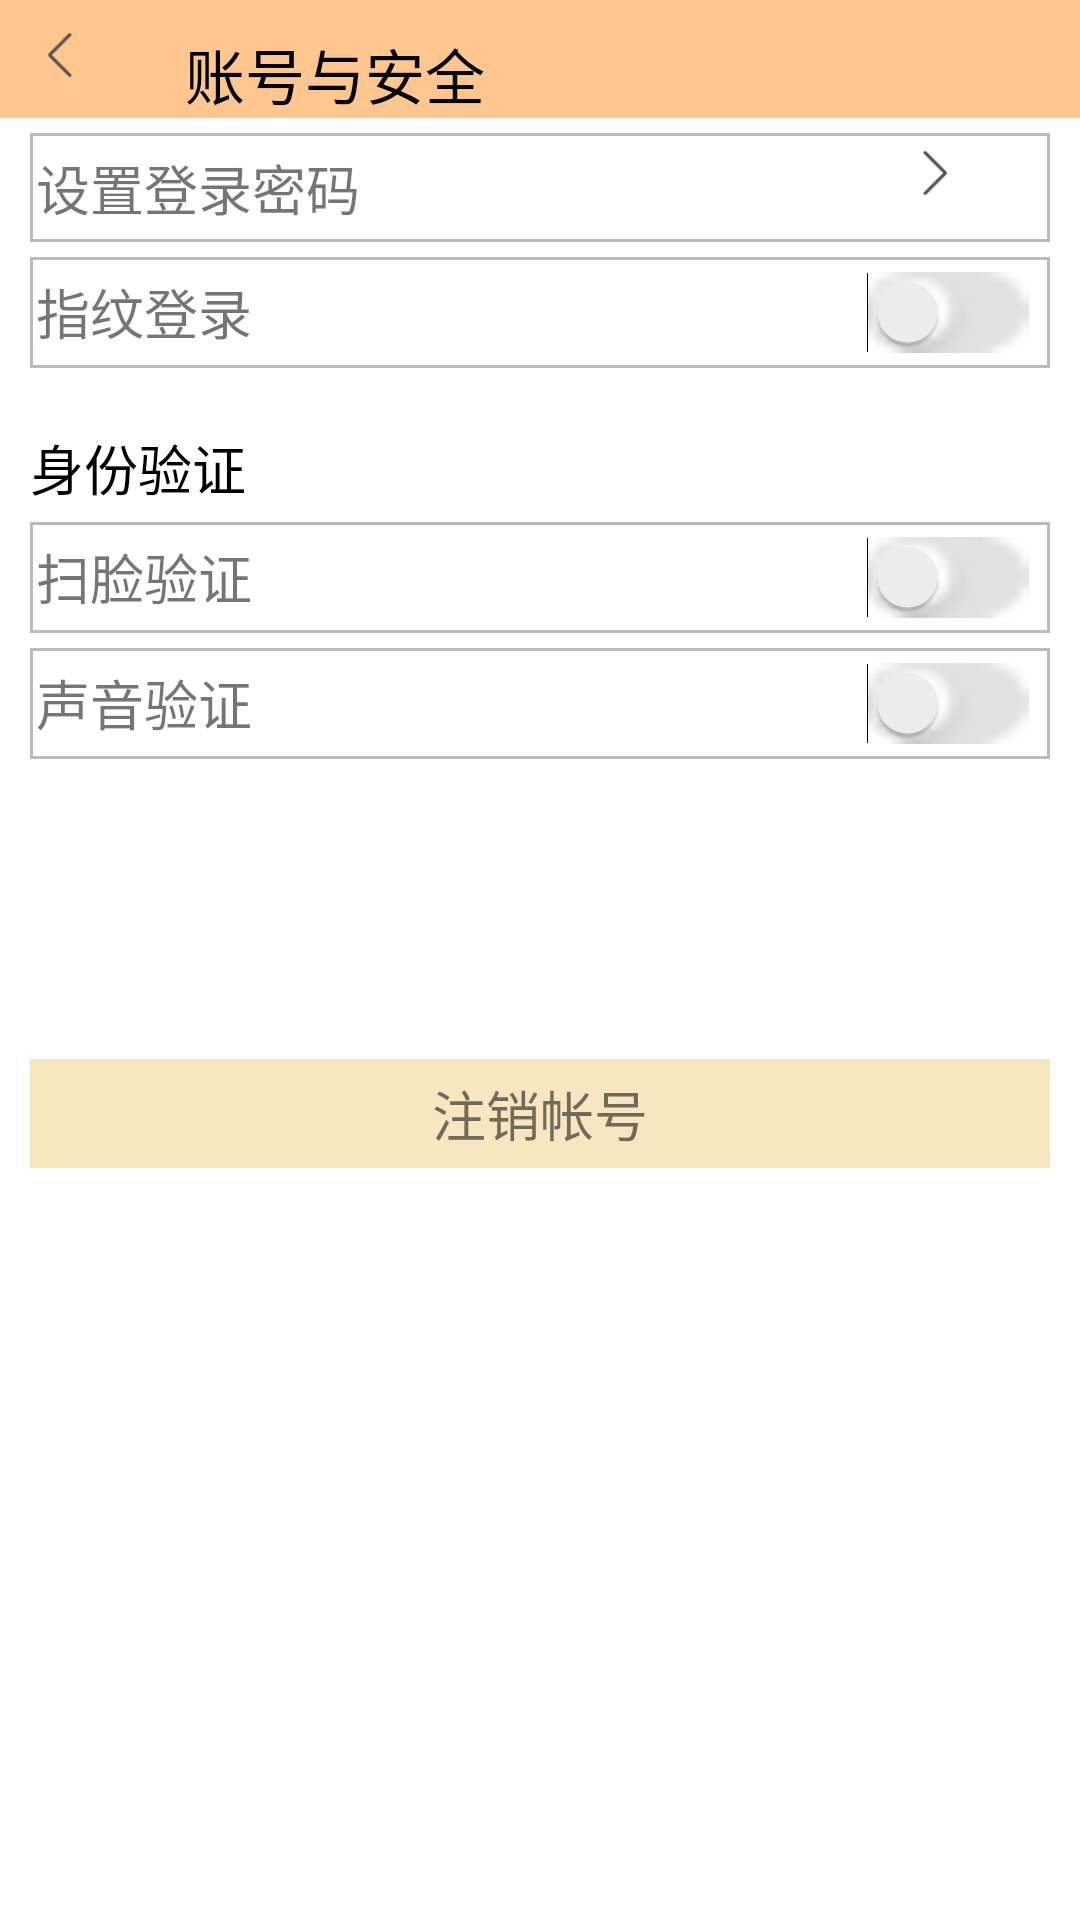

Icons on this 1080 × 1920 Android screen, each with its box as [x1=x1, y1=y1, x2=x2, y2=y2]:
fanhui: [x1=48, y1=33, x2=72, y2=77]
xiay: [x1=923, y1=151, x2=947, y2=195]
